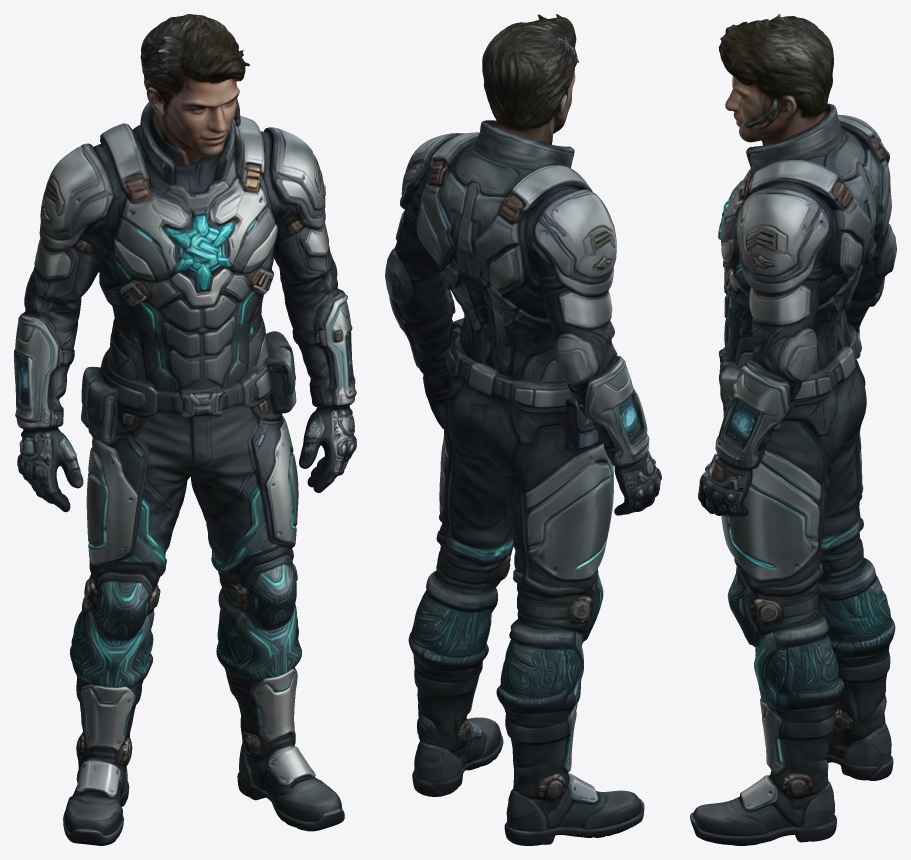
Rendered from hero_human_tier_5_source.glb.
3 views of the same model, side by side, from view 1: azimuth 30°, elevation 25°; view 2: azimuth 150°, elevation 25°; view 3: azimuth 270°, elevation 25° (orthographic). The views are drawn at different scales.
Parts seen in each view (by area): view 1: tripo_node_d6428ed3-ac6d-43ad-936a-ac1f90954b97; view 2: tripo_node_d6428ed3-ac6d-43ad-936a-ac1f90954b97; view 3: tripo_node_d6428ed3-ac6d-43ad-936a-ac1f90954b97.
Boxes of the visible parts, x1=… form: tripo_node_d6428ed3-ac6d-43ad-936a-ac1f90954b97: x1=14, y1=14, x2=356, y2=845; tripo_node_d6428ed3-ac6d-43ad-936a-ac1f90954b97: x1=385, y1=14, x2=661, y2=845; tripo_node_d6428ed3-ac6d-43ad-936a-ac1f90954b97: x1=690, y1=14, x2=896, y2=845.
Size of the model in its own units: 0.3886 by 1 by 0.2422.
Materials: 1 (1 with a texture image).
